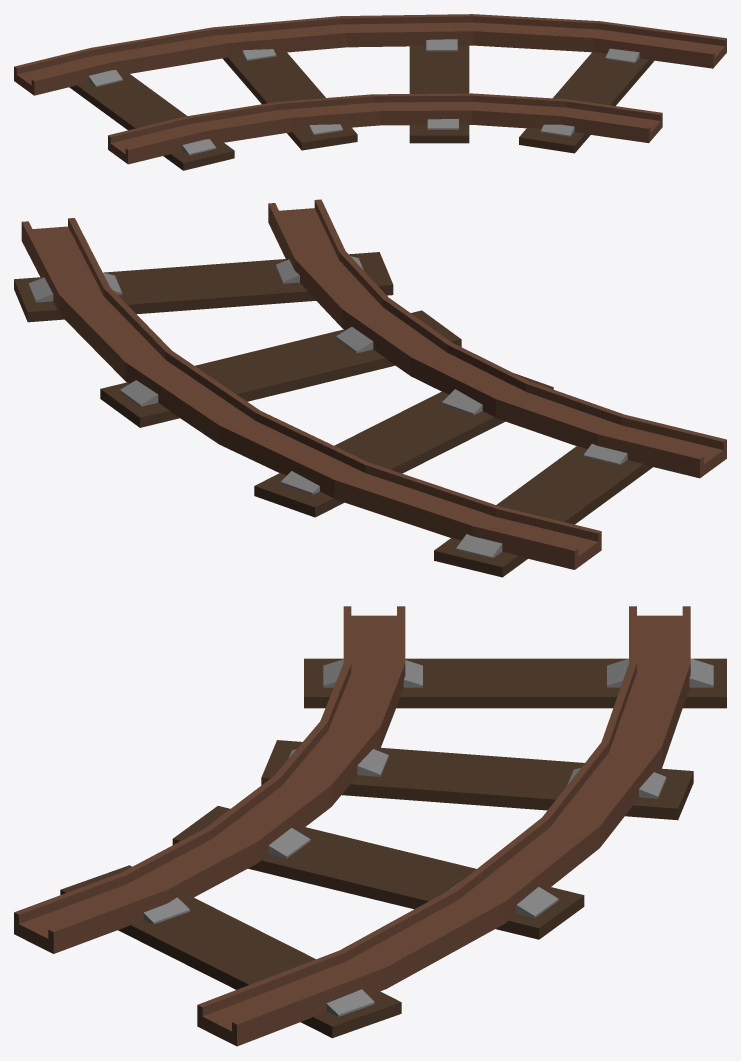
File: Rail mine 4.fbx
3 renders of one model, top to bottom at view 1: azimuth 30°, elevation 25°; view 2: azimuth 150°, elevation 25°; view 3: azimuth 270°, elevation 25°, orthographic. The views are drawn at different scales.
Visible parts, largest first — view 1: rail droit 1, planche rail 3.009, planche rail 3.006, planche rail 3.008, planche rail 3.007, soutien rail 1.034, soutien rail 1.042, soutien rail 1.048, soutien rail 1.041, soutien rail 1.046, soutien rail 1.031, soutien rail 1.035 (+1 smaller); view 2: rail droit 1, planche rail 3.006, planche rail 3.007, planche rail 3.008, planche rail 3.009, soutien rail 1.040, soutien rail 1.032, soutien rail 1.038, soutien rail 1.045; view 3: rail droit 1, planche rail 3.009, planche rail 3.008, planche rail 3.007, planche rail 3.006, soutien rail 1.032, soutien rail 1.047, soutien rail 1.045.
Part boxes in pixels (box(x1,y1,x2,y2)): rail droit 1: box(14, 14, 726, 164); planche rail 3.009: box(69, 73, 234, 170); planche rail 3.006: box(519, 52, 654, 153); planche rail 3.008: box(222, 52, 357, 150); planche rail 3.007: box(409, 45, 469, 143); soutien rail 1.034: box(426, 39, 457, 51); soutien rail 1.042: box(88, 70, 122, 86); soutien rail 1.048: box(605, 48, 639, 63); soutien rail 1.041: box(182, 139, 216, 155); soutien rail 1.046: box(427, 119, 458, 129); soutien rail 1.031: box(540, 124, 574, 136); soutien rail 1.035: box(242, 49, 276, 60); rail droit 1: box(21, 199, 726, 569); planche rail 3.006: box(14, 252, 393, 322); planche rail 3.007: box(100, 310, 461, 427); planche rail 3.008: box(254, 373, 553, 517); planche rail 3.009: box(434, 445, 652, 577); soutien rail 1.040: box(456, 534, 502, 558); soutien rail 1.032: box(120, 380, 158, 406); soutien rail 1.038: box(441, 389, 482, 415); soutien rail 1.045: box(336, 327, 373, 353); rail droit 1: box(14, 606, 690, 1046); planche rail 3.009: box(304, 658, 726, 708); planche rail 3.008: box(261, 740, 693, 820); planche rail 3.007: box(172, 806, 584, 939); planche rail 3.006: box(60, 865, 401, 1038); soutien rail 1.032: box(516, 887, 558, 917); soutien rail 1.047: box(326, 989, 374, 1016); soutien rail 1.045: box(268, 827, 310, 858).
Bounding box in the file's own units: 1254 × 45.54 × 903.
